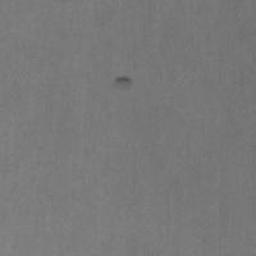Inclusion: (115, 76, 133, 87)
